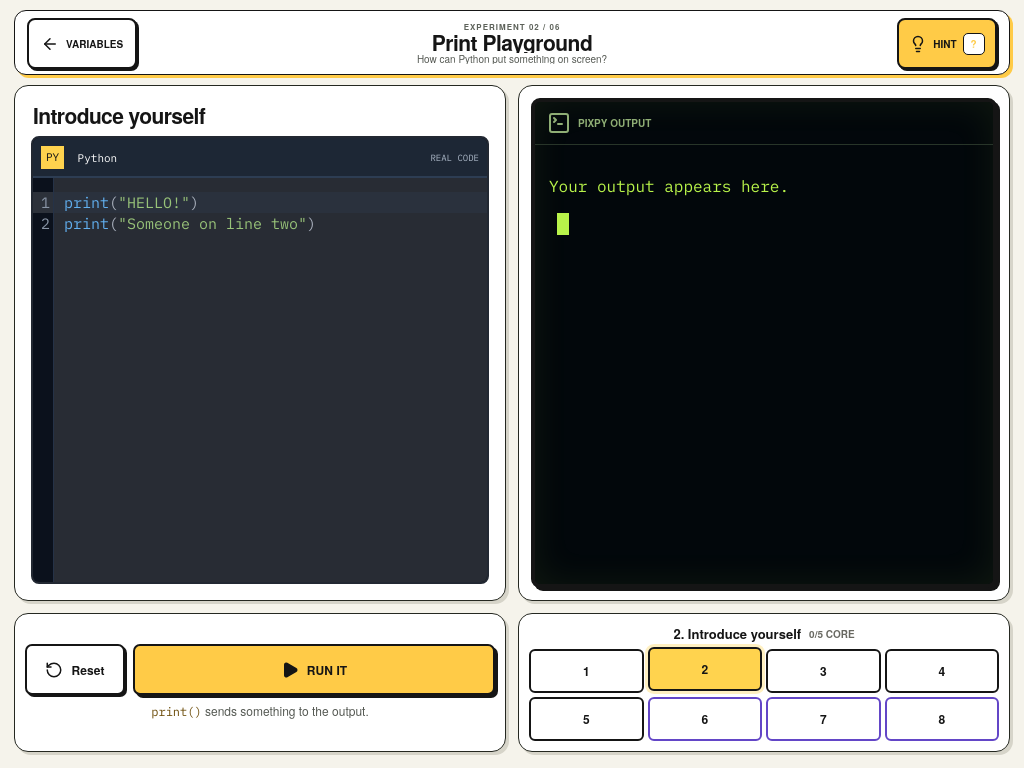
Print Playground screen › does not celebrate or turn the box green when the introduction is incomplete
This screenshot has width=1024, height=768.
Click the button "RUN IT".
click(314, 670)  # box [133, 644, 495, 695]
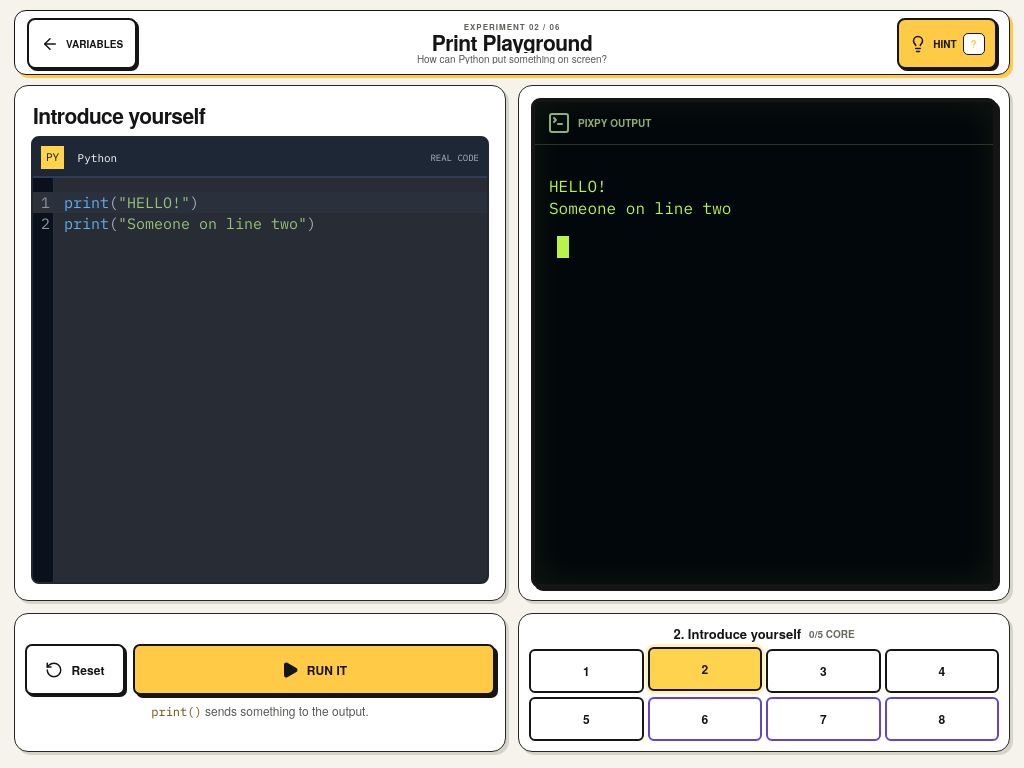
Result: the text "HELLO! Someone on line two" is shown at [549, 176, 731, 218]
